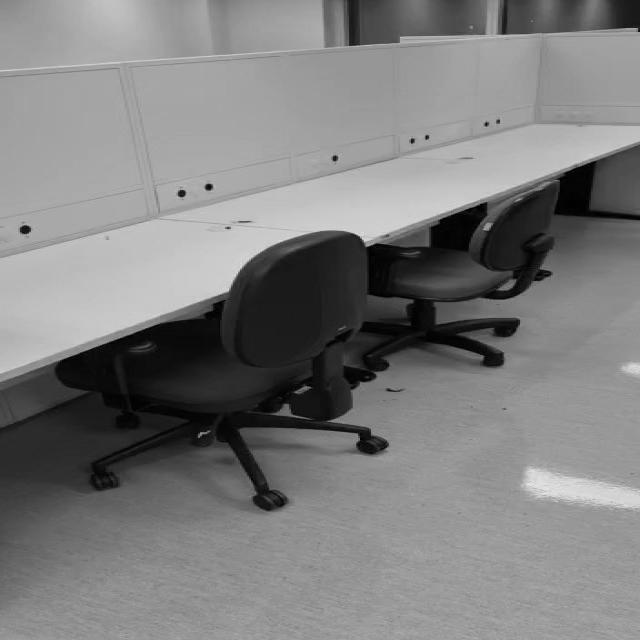cadeira-azul: (56, 229, 388, 511)
